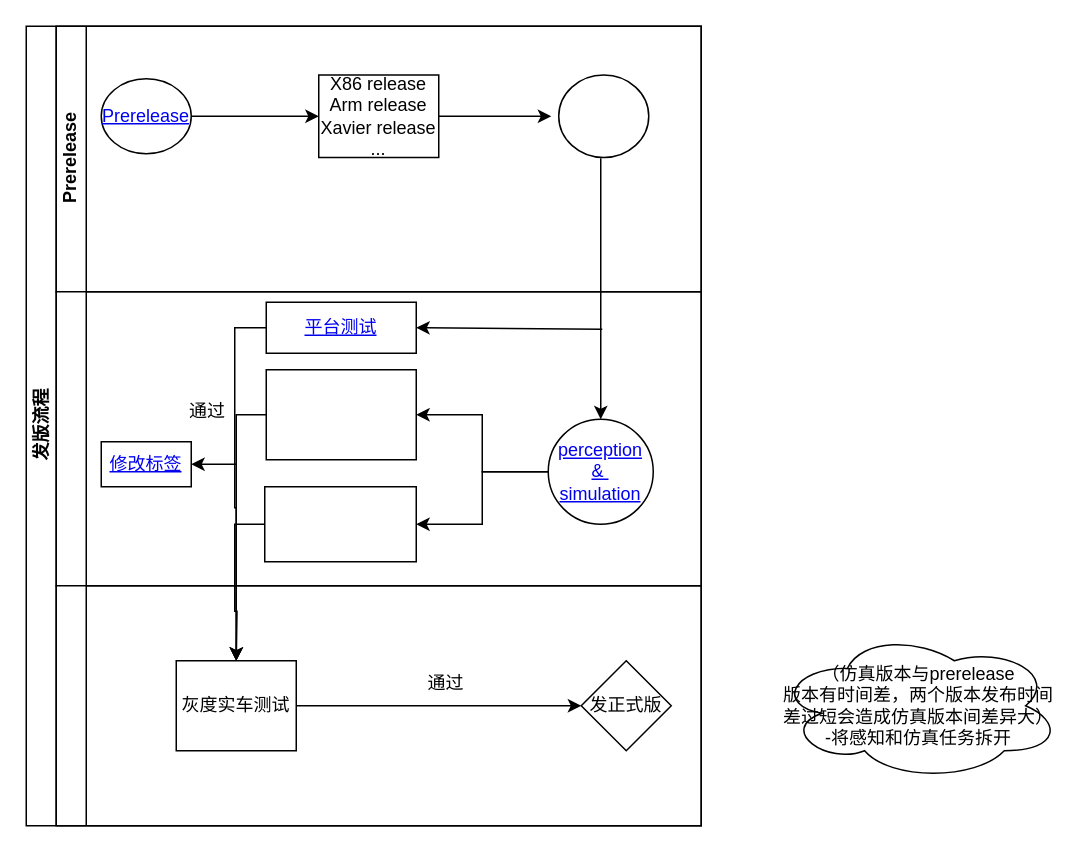
Some shapes in this 1088 by 852 pixel diagram are drawn without their labels. Each missing label, with the box of its shape:
下游任务: (557, 74, 649, 158)
仿真编译 平台仿真 性能测试: (263, 485, 416, 562)
感知编译 fusion segmentation: (265, 368, 416, 460)
模块测试: (55, 290, 701, 586)
灰度测试: (55, 584, 701, 826)
